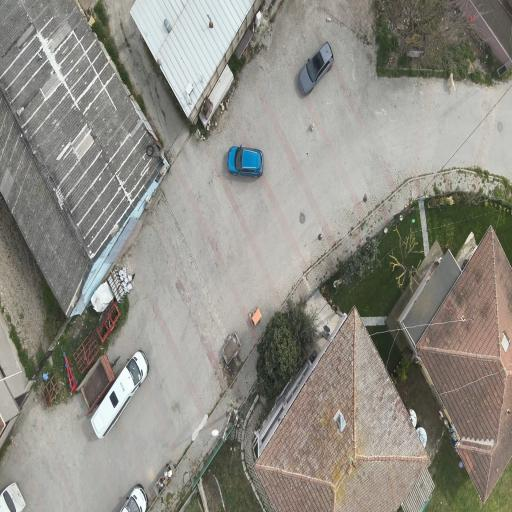car: (92, 351, 148, 438), (299, 42, 333, 94), (227, 146, 263, 177), (0, 483, 25, 511), (121, 485, 147, 511)
